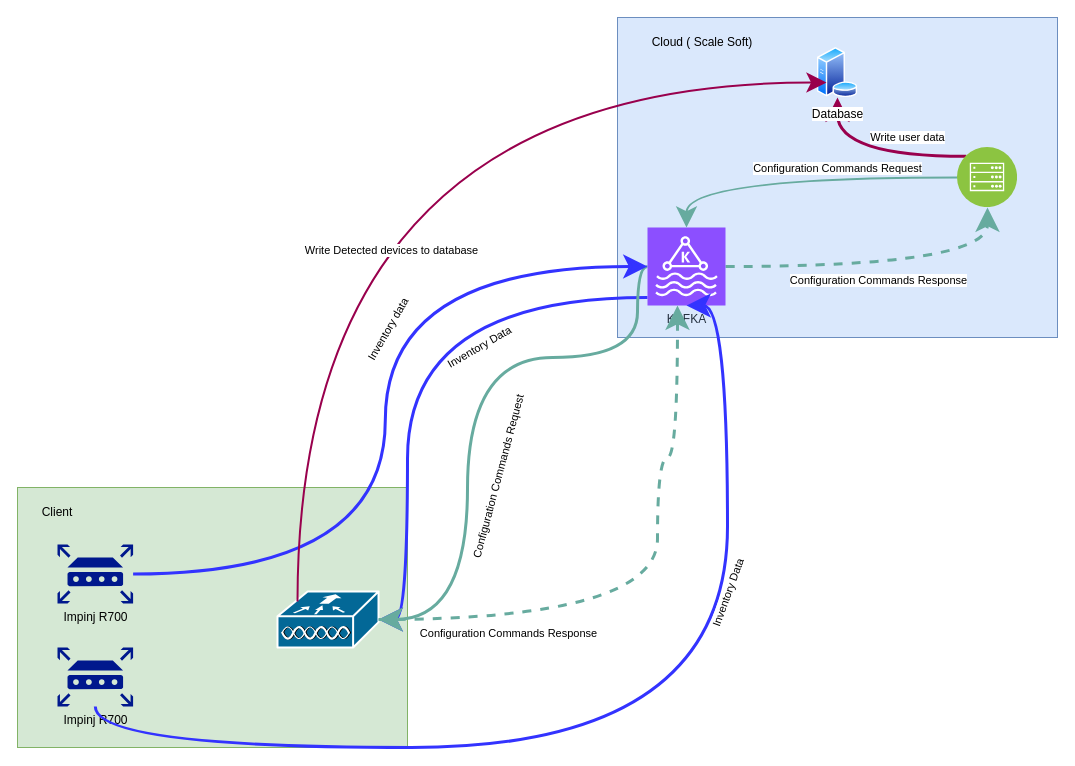
Some shapes in this 1075 by 766 pixel diagram are drawn without their labels. Each missing label, with the centre of its shape:
Backend: the point at 987,177
Raspberry Pi: the point at 327,619
